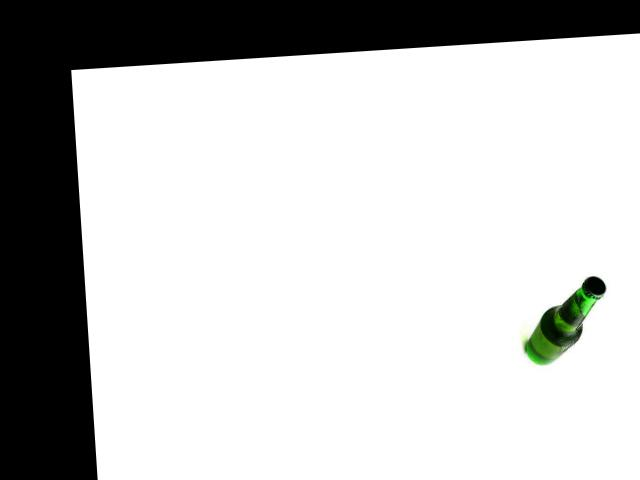beer: (521, 275, 610, 366)
